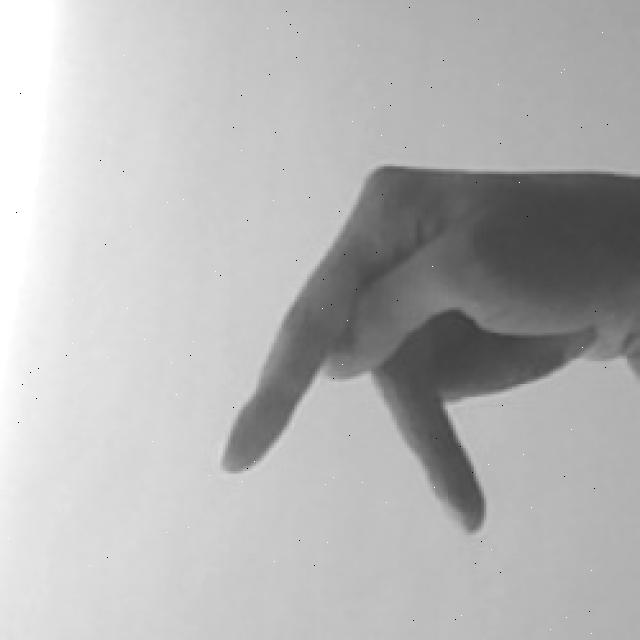P: (209, 149, 640, 547)
